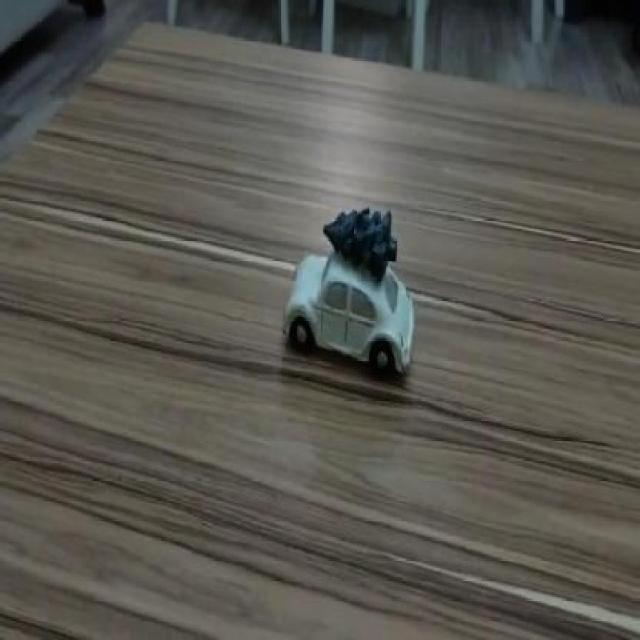car: (284, 249, 418, 369)
